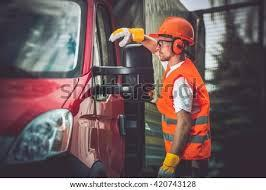Gloves: (110, 27, 146, 49), (159, 151, 181, 180)
Helmet: (150, 15, 199, 41)
Jacket: (156, 61, 214, 161)
